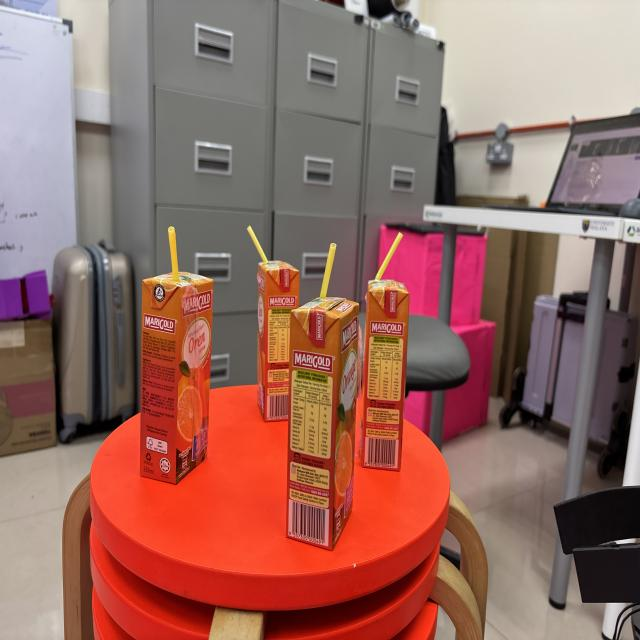drink_carton: (282, 237, 364, 570), (135, 220, 217, 491), (361, 227, 413, 489), (242, 216, 307, 424)
